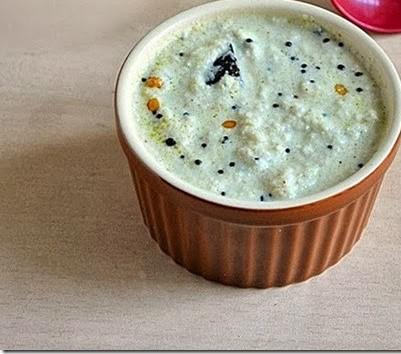CoconutChutney: (134, 11, 385, 201)
